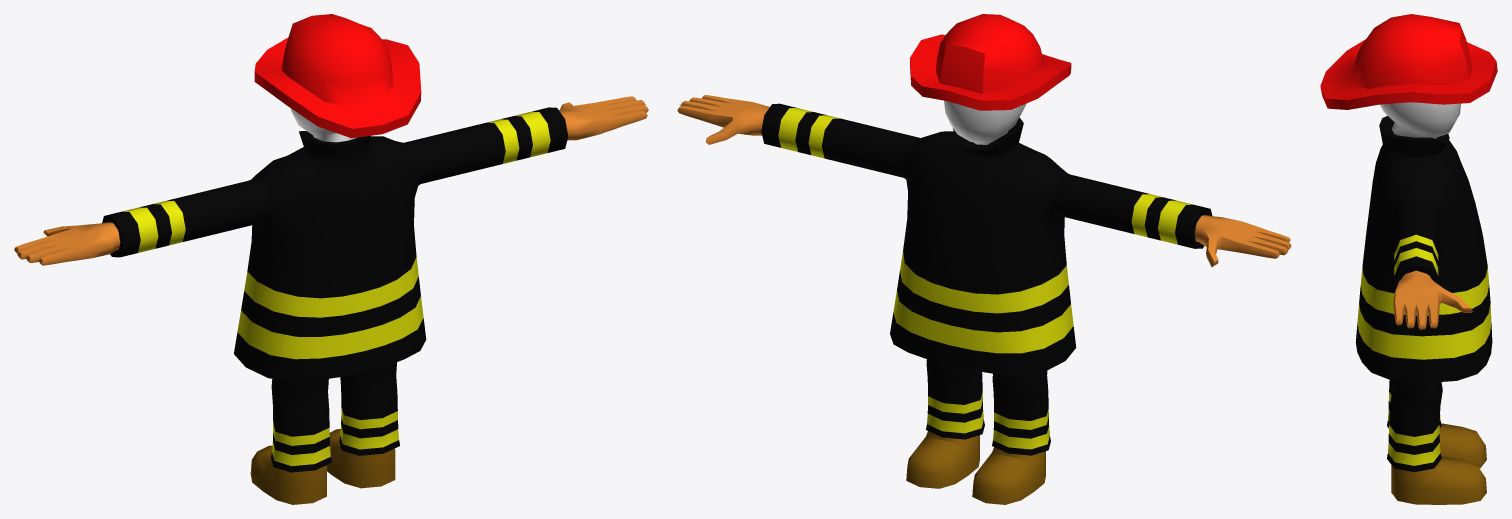
Rendered from FireManSam.fbx.
3 views of the same model, side by side, from view 1: azimuth 30°, elevation 25°; view 2: azimuth 150°, elevation 25°; view 3: azimuth 270°, elevation 25° (orthographic). The views are drawn at different scales.
Parts seen in each view (by area): view 1: Cube.002, Cube.004, Cube.001, Cube.007, boots; view 2: Cube.002, Cube.004, Cube.001, boots, Cube.007, Cube.003; view 3: Cube.002, Cube.004, boots, Cube.001, Cube.007, Cube.003.
Boxes of the visible parts, x1,y1,x2,y2 form: Cube.002: (102,107,568,381); Cube.004: (254,14,421,138); Cube.001: (271,362,399,472); Cube.007: (14,96,648,265); boots: (250,429,395,504); Cube.002: (761,103,1212,375); Cube.004: (910,14,1071,110); Cube.001: (926,359,1050,455); boots: (906,431,1045,504); Cube.007: (677,95,1291,267); Cube.003: (944,100,1026,144); Cube.002: (1355,116,1492,382); Cube.004: (1320,14,1497,109); boots: (1391,423,1486,504); Cube.001: (1387,380,1442,472); Cube.007: (1393,270,1473,329); Cube.003: (1380,102,1460,138).
Bounding box in the file's own units: 641 × 455 × 160.
